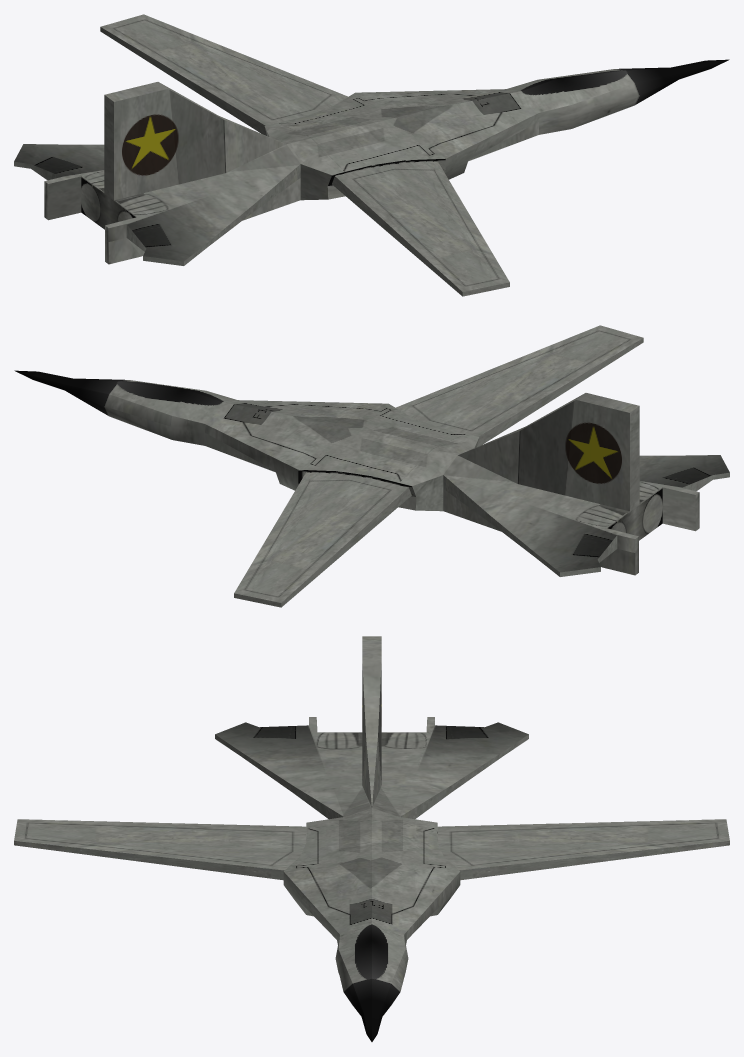
The model's file is Plane_Fighter.FBX.
3 views of the same model, one above another, from view 1: azimuth 30°, elevation 25°; view 2: azimuth 150°, elevation 25°; view 3: azimuth 270°, elevation 25° (orthographic). The views are drawn at different scales.
Visible parts, largest first — view 1: polySurface2, Wing1, Wing2; view 2: polySurface2, Wing2, Wing1; view 3: polySurface2, Wing1, Wing2.
Boxes of the visible parts, x1,y1,x2,y2 form: polySurface2: (14,59,729,265); Wing1: (332,161,509,296); Wing2: (100,14,347,135); polySurface2: (14,370,729,576); Wing2: (234,472,411,607); Wing1: (396,325,643,446); polySurface2: (215,636,528,1041); Wing1: (14,819,306,880); Wing2: (437,819,729,880).
Bounding box in the file's own units: 10.08 × 2 × 9.78.
Materials: 2 (2 with a texture image).
